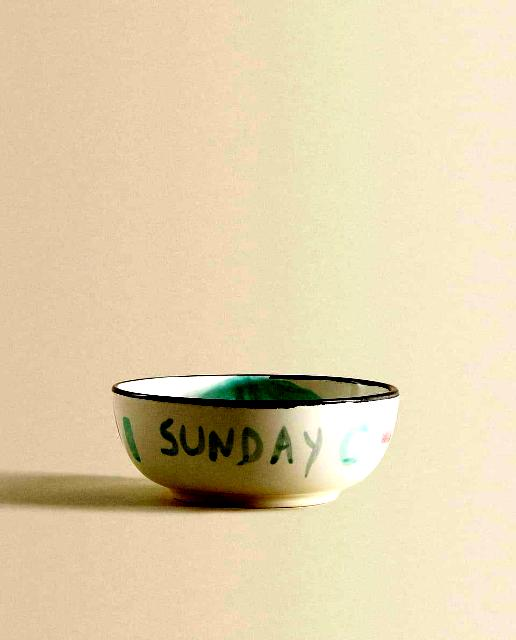Bowl: (113, 375, 398, 508)
